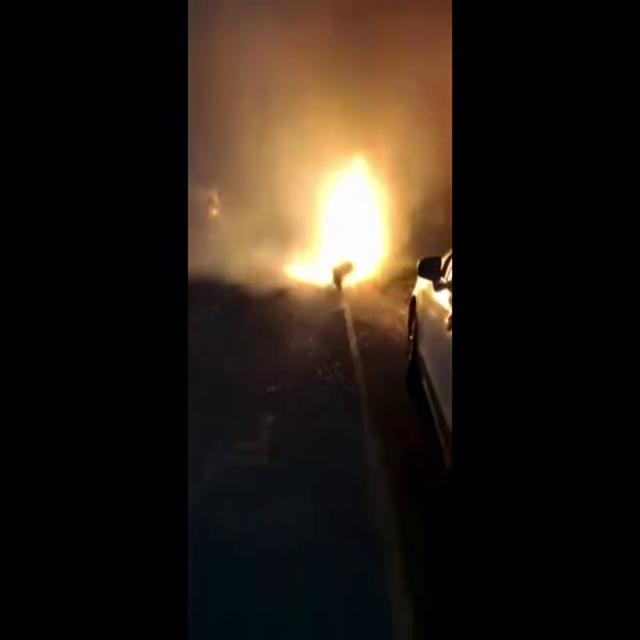Fire: (284, 152, 396, 302)
Smoke: (188, 0, 451, 175)
